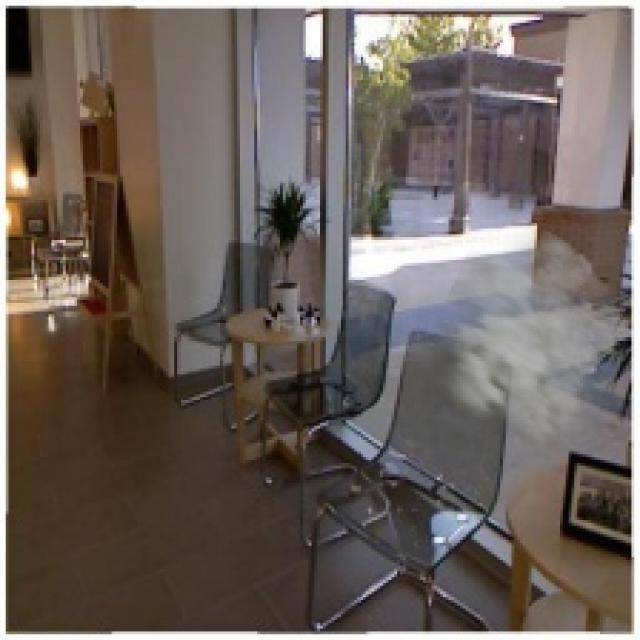smoke: (409, 220, 634, 454)
